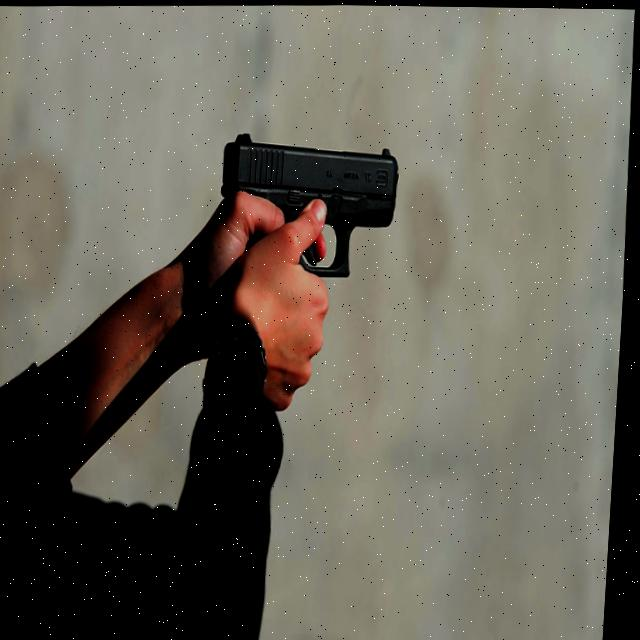pistol: (216, 126, 404, 282)
